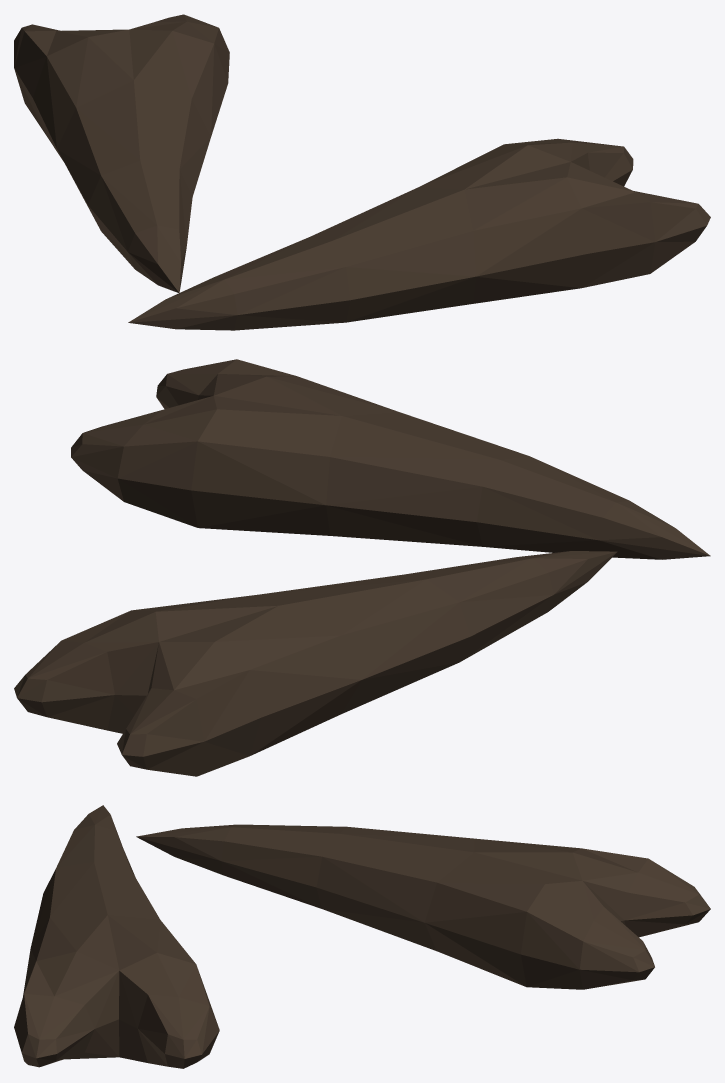
The model's file is ITAT_TEETH.OBJ.
3 views of the same model, one above another, from view 1: azimuth 30°, elevation 25°; view 2: azimuth 150°, elevation 25°; view 3: azimuth 270°, elevation 25° (orthographic). The views are drawn at different scales.
Visible parts, largest first — view 1: ITAT_TEETH; view 2: ITAT_TEETH; view 3: ITAT_TEETH.
Boxes of the visible parts, x1,y1,x2,y2 form: ITAT_TEETH: (14, 14, 710, 330); ITAT_TEETH: (14, 359, 710, 776); ITAT_TEETH: (14, 805, 710, 1068).
Bounding box in the file's own units: 0.1711 × 0.032 × 0.1999.
